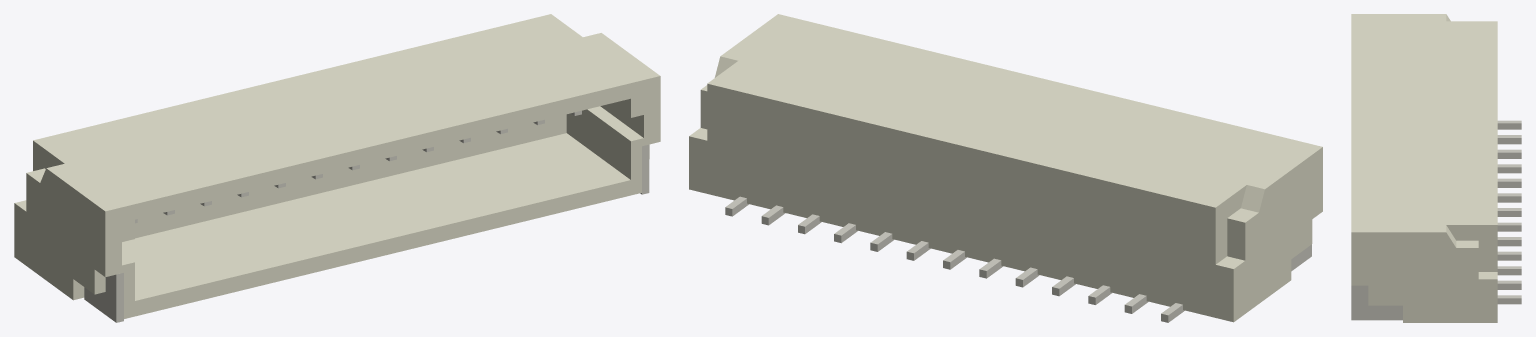
File: kc-jst_sh_sm13b-srss-tb_1x13-1mp_p1.00mm_horizontal.glb
3 renders of one model, left to right at view 1: azimuth 30°, elevation 25°; view 2: azimuth 150°, elevation 25°; view 3: azimuth 270°, elevation 25°, orthographic. The views are drawn at different scales.
Parts seen in each view (by area): view 1: 0.75_0.75_0.6666666666666666_0, 0.6666666666666666_0.6666666666666666_0.5833333333333334_0.8; view 2: 0.75_0.75_0.6666666666666666_0, 0.6666666666666666_0.6666666666666666_0.5833333333333334_0.8; view 3: 0.75_0.75_0.6666666666666666_0, 0.6666666666666666_0.6666666666666666_0.5833333333333334_0.8.
Boxes of the visible parts, <box> form: 0.75_0.75_0.6666666666666666_0: <box>14,14,660,318</box>; 0.6666666666666666_0.6666666666666666_0.5833333333333334_0.8: <box>84,110,649,322</box>; 0.75_0.75_0.6666666666666666_0: <box>689,14,1322,322</box>; 0.6666666666666666_0.6666666666666666_0.5833333333333334_0.8: <box>725,196,1311,322</box>; 0.75_0.75_0.6666666666666666_0: <box>1351,14,1497,322</box>; 0.6666666666666666_0.6666666666666666_0.5833333333333334_0.8: <box>1351,120,1521,320</box>.
Bounding box in the file's own units: 1.5 × 0.296 × 0.4951.
